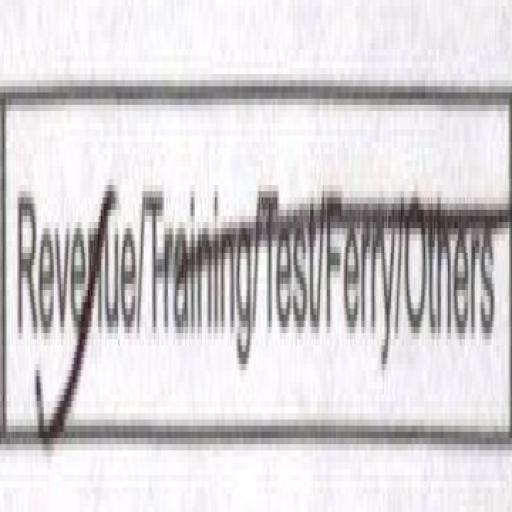check: (0, 68, 138, 511)
